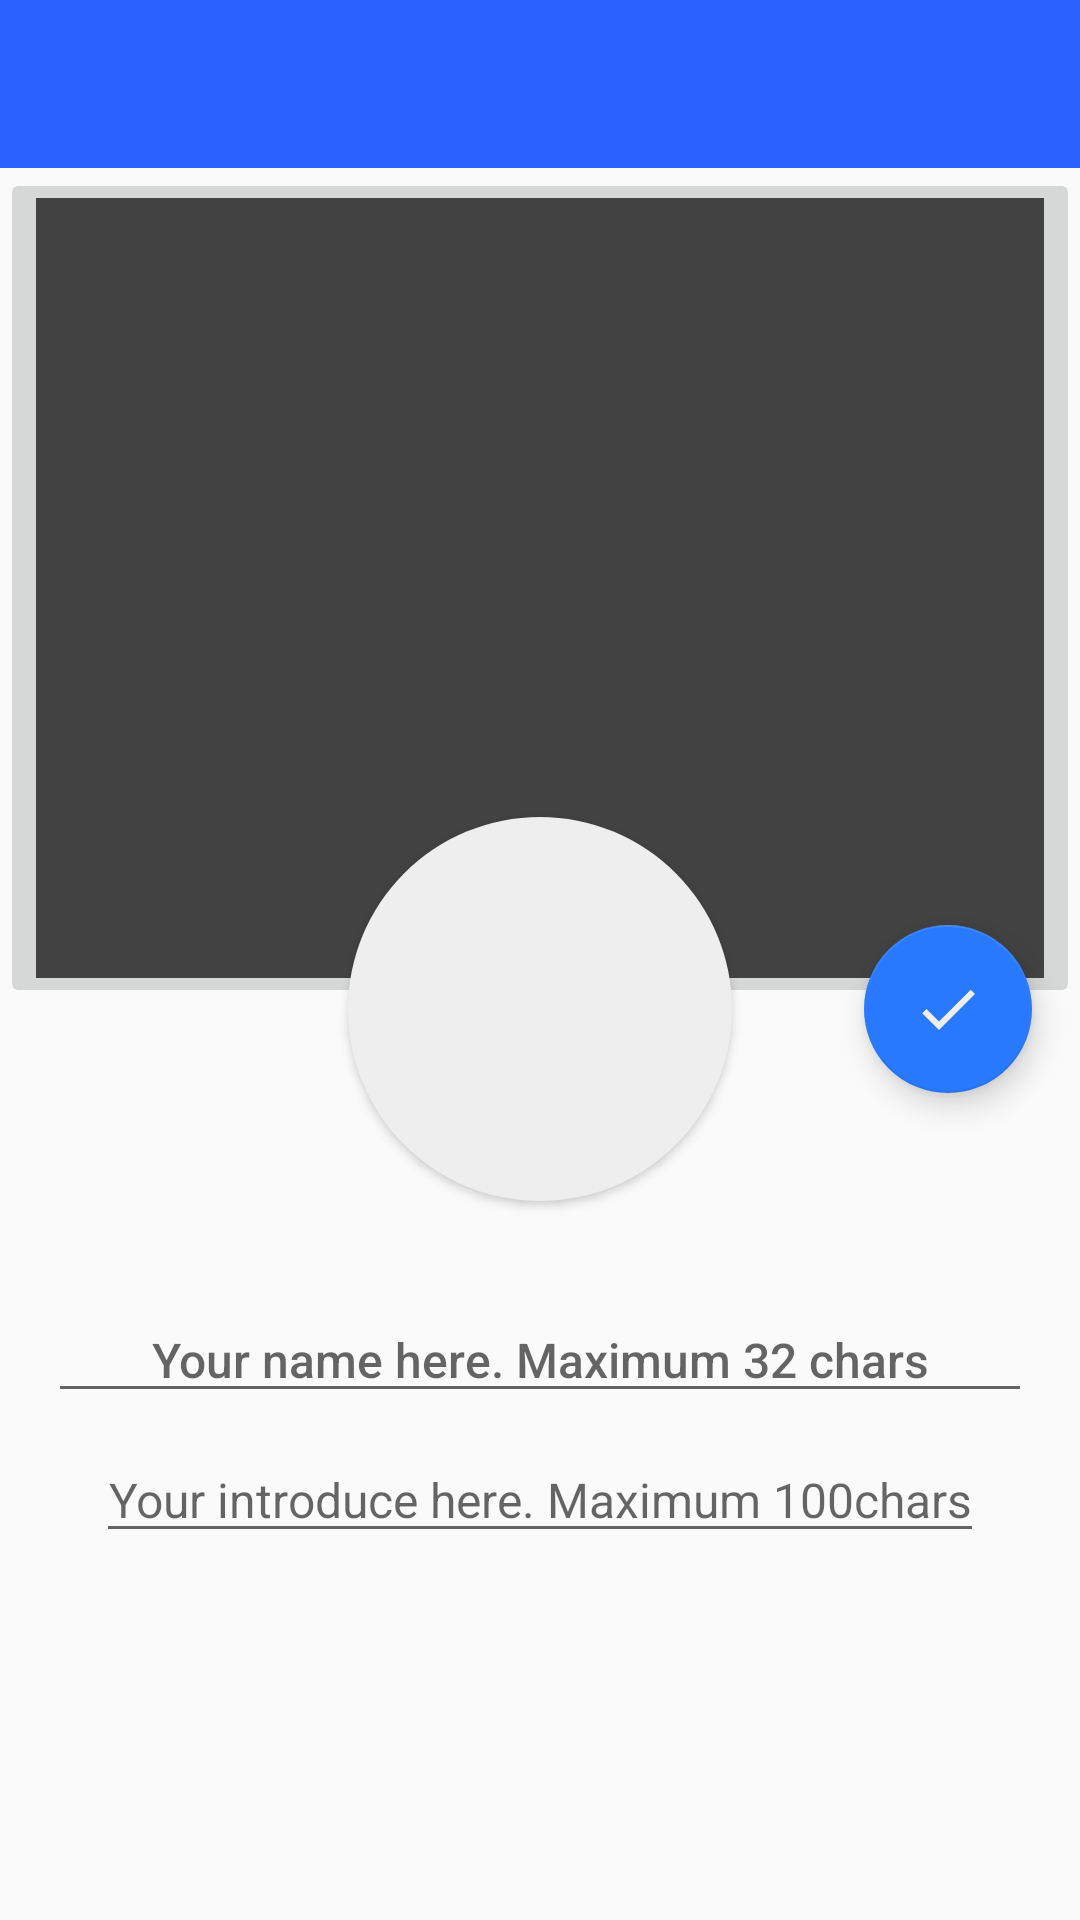

Named icons in this screenshot (1080w x 1920h) and their centers, [x,y]:
check: [948,1009]
